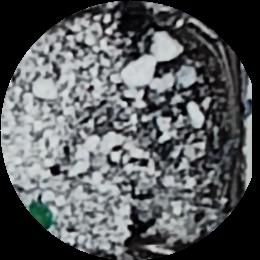Nothing: (1, 1, 260, 260)
